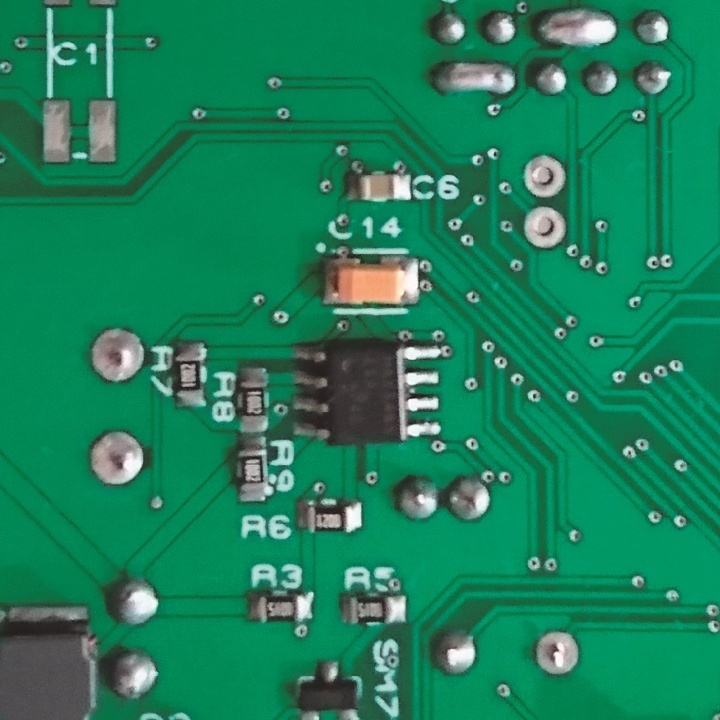F: (85, 428, 144, 489), (87, 323, 145, 384), (519, 152, 567, 201), (534, 630, 584, 676), (520, 203, 569, 249)
P: (531, 4, 621, 52), (427, 57, 519, 97)
